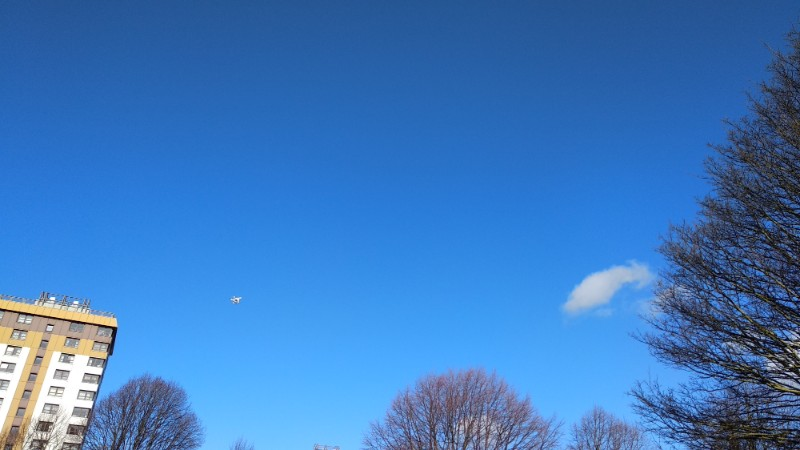drone: (230, 295, 242, 305)
